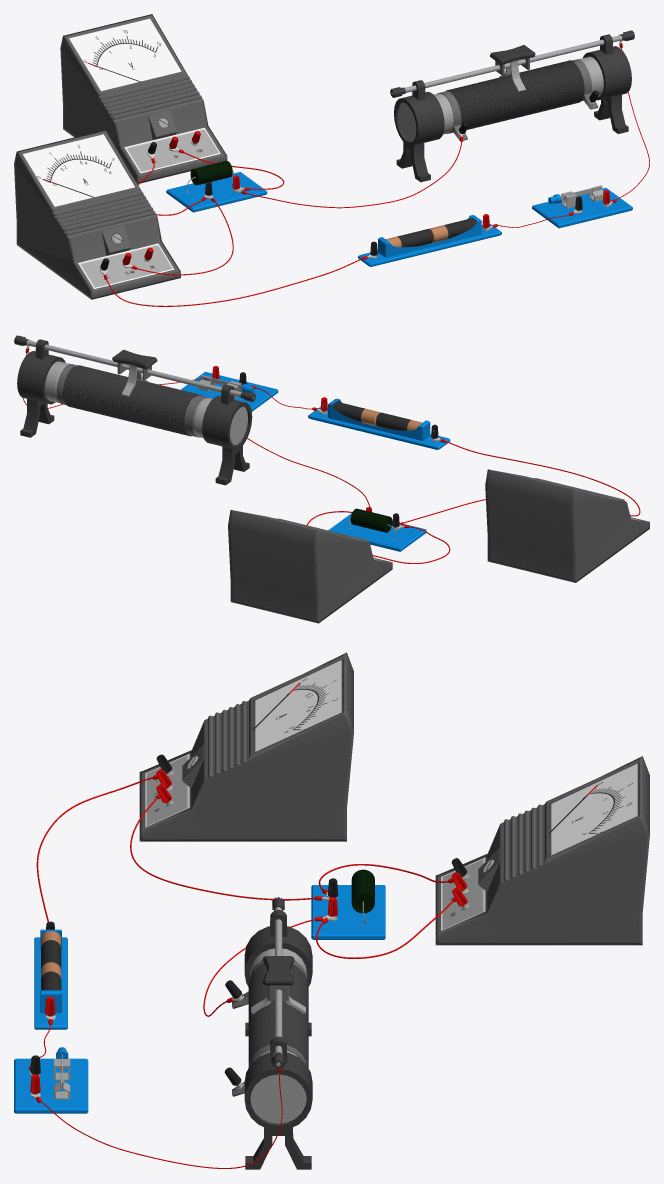
File: all.fbx
3 views of the same model, one above another, from view 1: azimuth 30°, elevation 25°; view 2: azimuth 150°, elevation 25°; view 3: azimuth 270°, elevation 25° (orthographic). The views are drawn at different scales.
Visible parts, largest first — view 1: polySurface68, pCube19, pCube22, pCube21, pCube20, pCube40, polySurface34, polySurface20, polySurface19, pCylinder36, polySurface16, polySurface15 (+1 smaller); view 2: polySurface68, pCube19, pCube22, polySurface34, pCube40, polySurface20, polySurface19, pCylinder36, polySurface16, polySurface15; view 3: pCube22, pCube19, polySurface68, pCube20, pCube21, pCube40, polySurface34, polySurface20, pCylinder36.
Boxes of the visible parts, <box> form: polySurface68: <box>390,30,634,182</box>; pCube19: <box>14,130,180,299</box>; pCube22: <box>60,14,227,183</box>; pCube21: <box>69,18,181,90</box>; pCube20: <box>23,134,134,206</box>; pCube40: <box>532,185,632,228</box>; polySurface34: <box>166,172,267,212</box>; polySurface20: <box>358,224,501,266</box>; polySurface19: <box>378,215,481,257</box>; pCylinder36: <box>190,161,232,185</box>; polySurface16: <box>429,218,476,242</box>; polySurface15: <box>386,229,433,247</box>; polySurface68: <box>14,335,255,485</box>; pCube19: <box>485,469,649,582</box>; pCube22: <box>228,510,392,623</box>; polySurface34: <box>328,513,426,551</box>; pCube40: <box>180,371,278,411</box>; polySurface20: <box>308,407,450,449</box>; polySurface19: <box>328,398,430,440</box>; pCylinder36: <box>350,508,392,532</box>; polySurface16: <box>332,401,380,426</box>; polySurface15: <box>376,412,422,430</box>; pCube22: <box>435,756,649,945</box>; pCube19: <box>139,652,353,841</box>; polySurface68: <box>224,896,312,1169</box>; pCube20: <box>255,660,341,751</box>; pCube21: <box>551,763,637,855</box>; pCube40: <box>14,1047,88,1113</box>; polySurface34: <box>311,885,385,939</box>; polySurface20: <box>34,937,67,1029</box>; pCylinder36: <box>351,869,374,913</box>.
Bounding box in the file's own units: 34.59 × 5.36 × 23.3.
